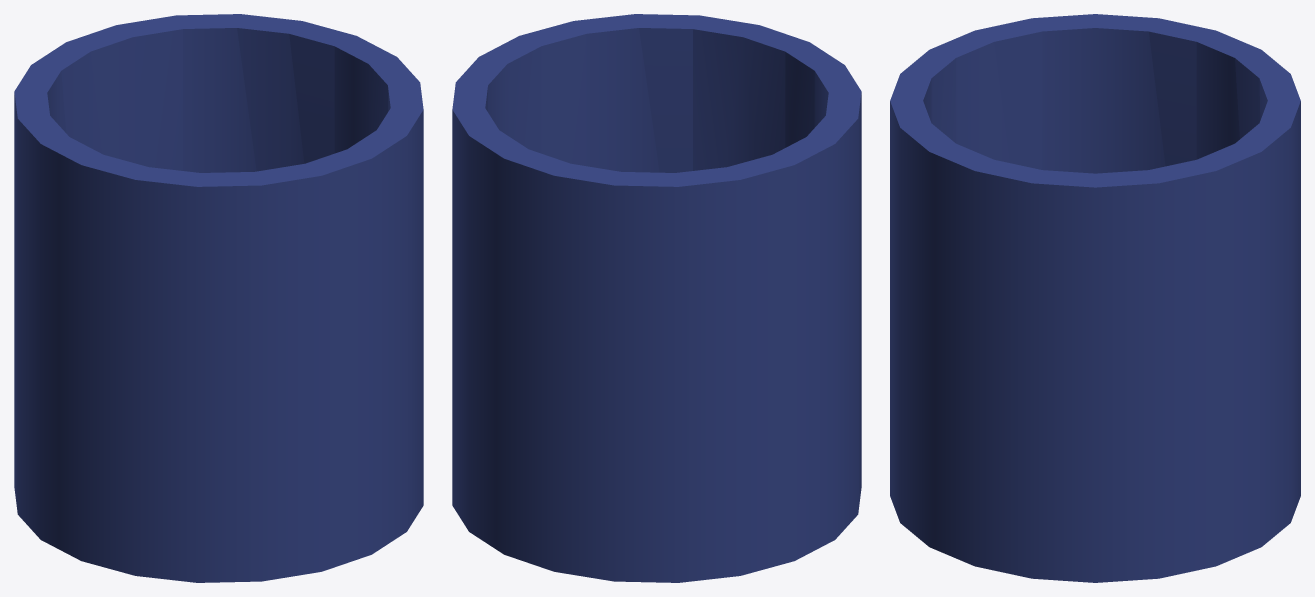
The model's file is AssetsForUnityExtra(4).fbx.
3 views of the same model, side by side, from view 1: azimuth 30°, elevation 25°; view 2: azimuth 150°, elevation 25°; view 3: azimuth 270°, elevation 25° (orthographic).
Parts seen in each view (by area): view 1: pCylinder32; view 2: pCylinder32; view 3: pCylinder32.
Boxes of the visible parts, x1,y1,x2,y2 form: pCylinder32: (14,14,423,582); pCylinder32: (452,14,861,582); pCylinder32: (890,14,1300,582).
Size of the model in its own units: 7.96 by 8.46 by 7.96.
